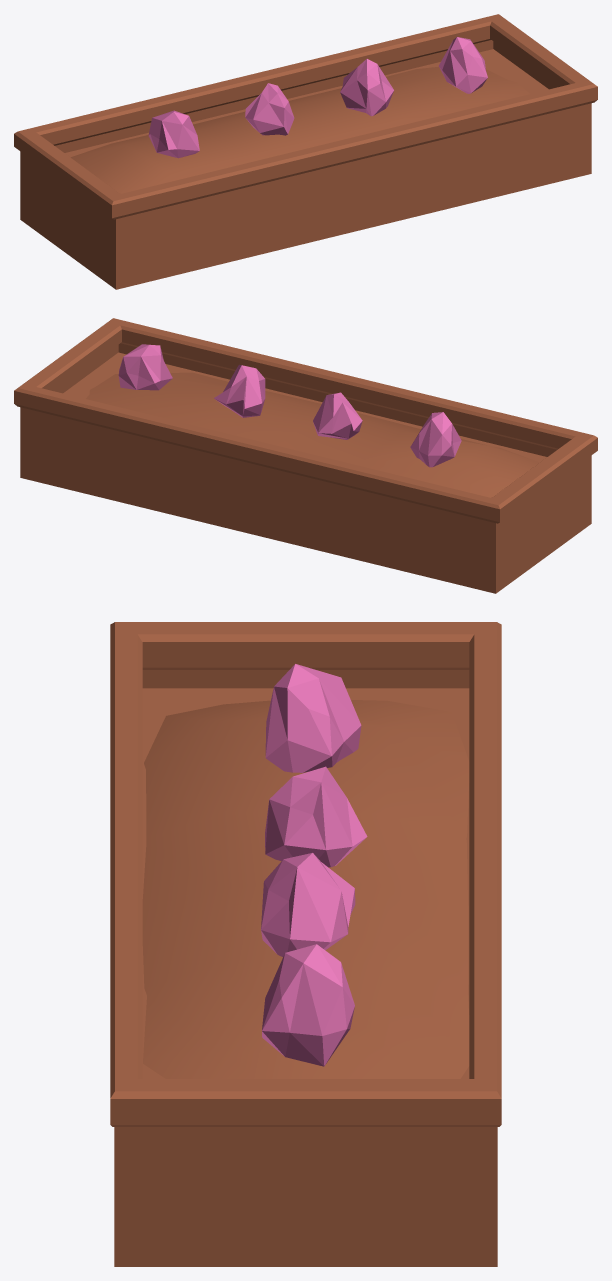
Rendered from FlowerBox.fbx.
The picture shows the model from 3 angles, top to bottom: view 1: azimuth 30°, elevation 25°; view 2: azimuth 150°, elevation 25°; view 3: azimuth 270°, elevation 25°; orthographic projection. The views are drawn at different scales.
Visible parts, largest first — view 1: FlowerBox_geo, Flowers_geo; view 2: FlowerBox_geo, Flowers_geo; view 3: FlowerBox_geo, Flowers_geo.
Boxes of the visible parts, x1,y1,x2,y2 form: FlowerBox_geo: (14,14,597,289); Flowers_geo: (148,37,487,158); FlowerBox_geo: (14,318,597,593); Flowers_geo: (118,344,461,467); FlowerBox_geo: (110,622,501,1266); Flowers_geo: (261,664,367,1066).
Bounding box in the file's own units: 315 × 75.39 × 110.
